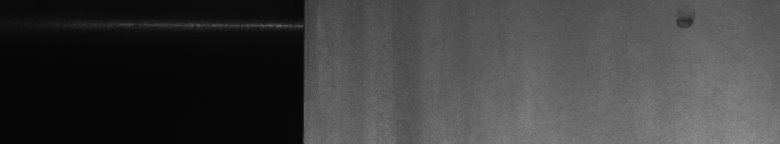fi: (672, 12, 699, 36)
